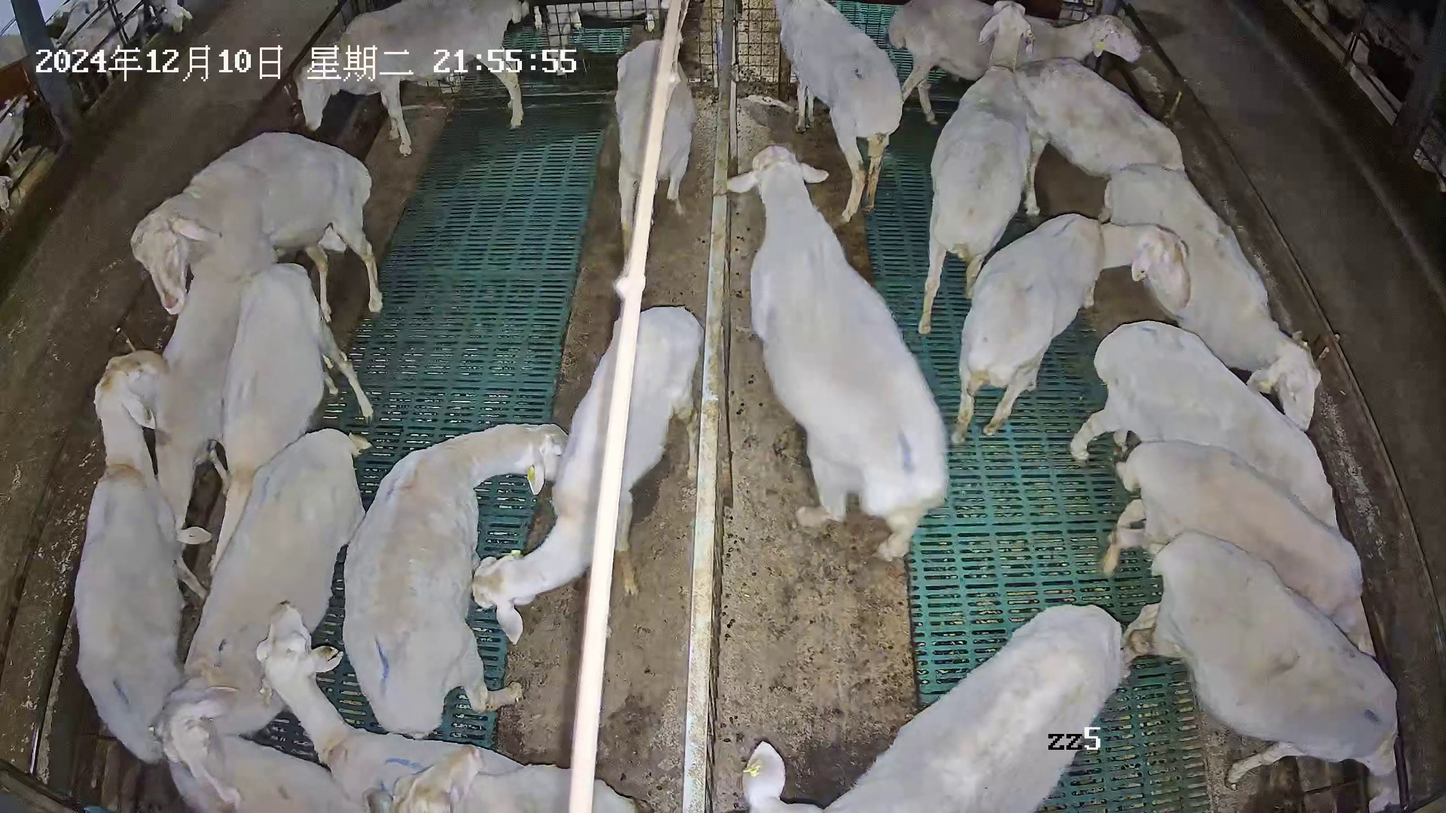Smounting: (127, 128, 384, 550)
mounted: (151, 274, 273, 547)
